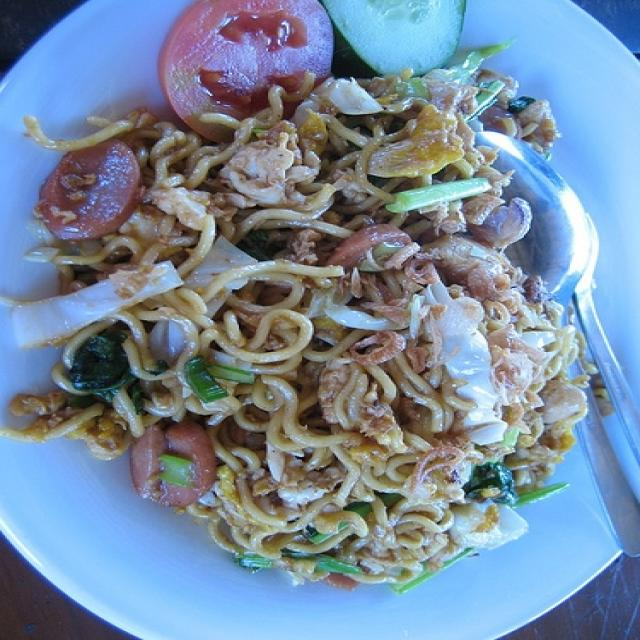面条主食: (26, 18, 588, 602)
